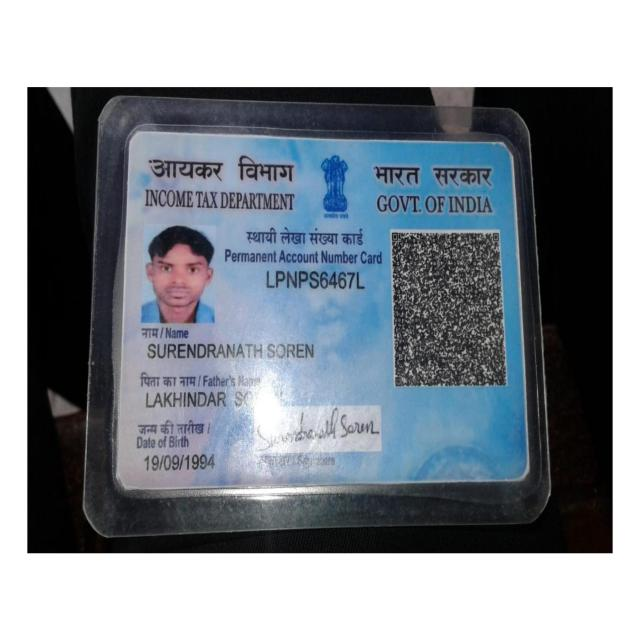pan_card: (130, 135, 517, 475)
